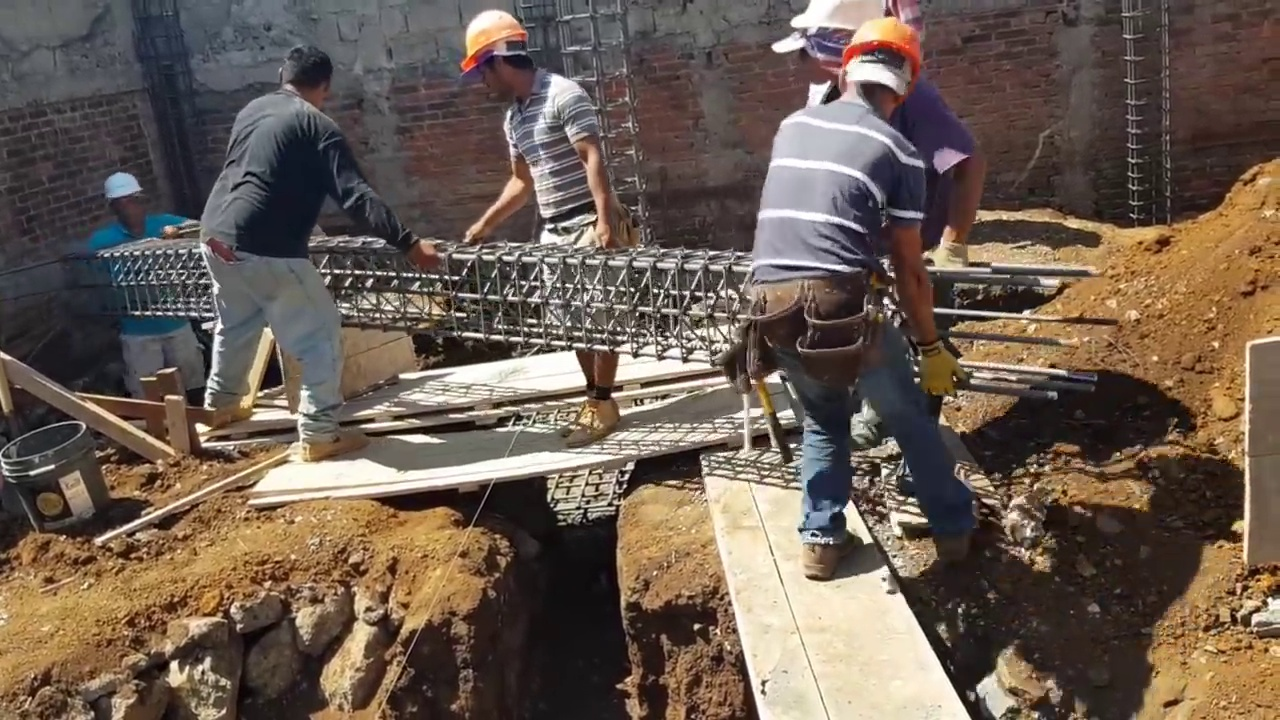helmet: (844, 11, 926, 88), (451, 10, 523, 73), (788, 0, 884, 34), (104, 171, 145, 203)
helmet-off: (277, 43, 334, 108)
helmet-on: (778, 1, 885, 95), (838, 12, 925, 124), (450, 10, 539, 102), (103, 173, 146, 230)
person: (737, 13, 992, 583), (196, 47, 416, 453), (450, 9, 627, 428), (774, 0, 980, 303), (80, 168, 195, 389)
